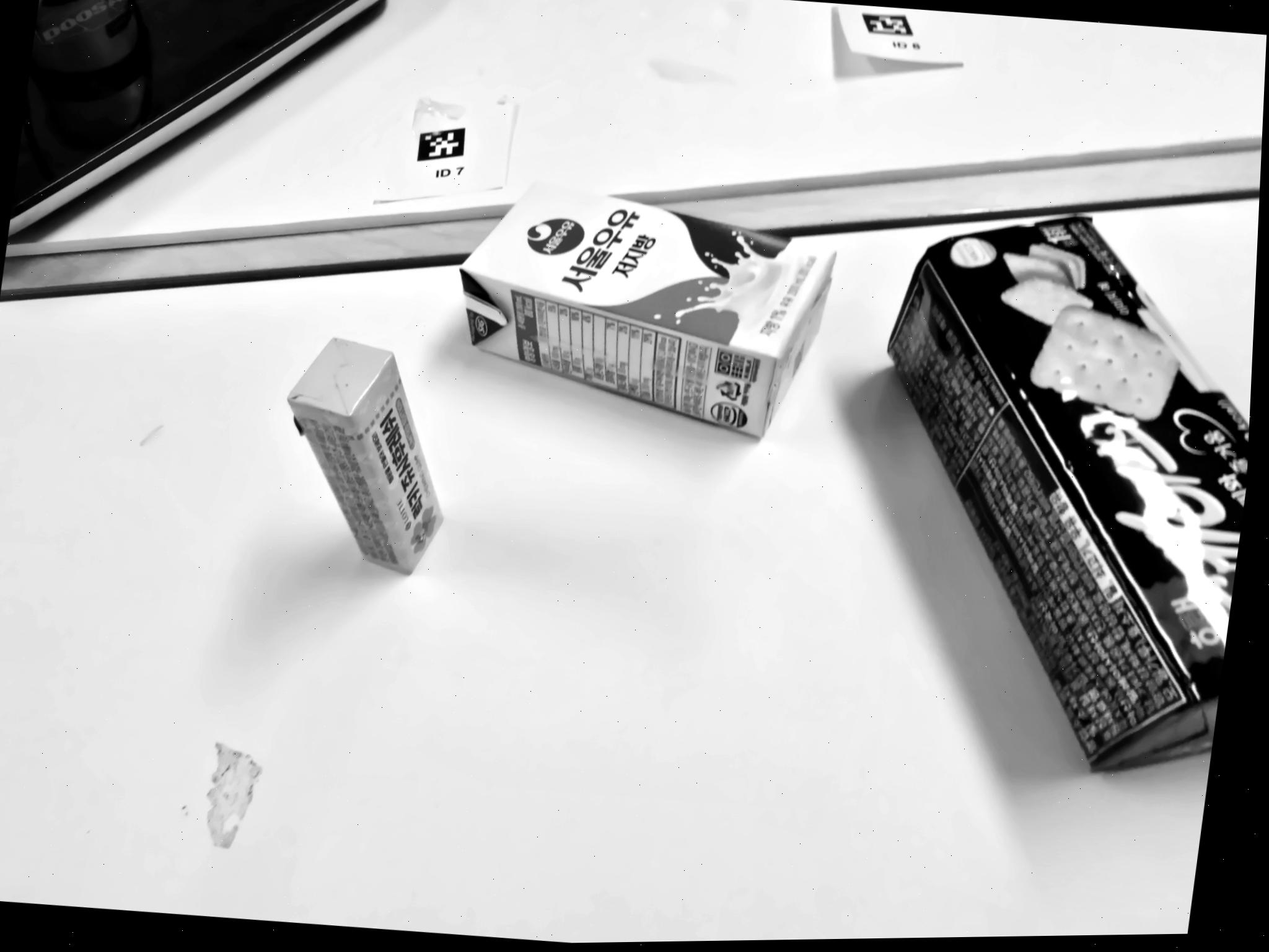cracker_ace: (889, 218, 1249, 768)
gum_yellow: (288, 338, 442, 573)
milk_blue: (460, 184, 834, 437)
